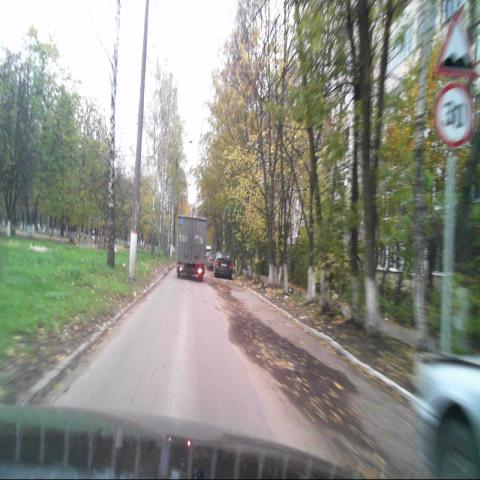1_16: (436, 8, 480, 78)
3_24: (436, 81, 474, 149)
